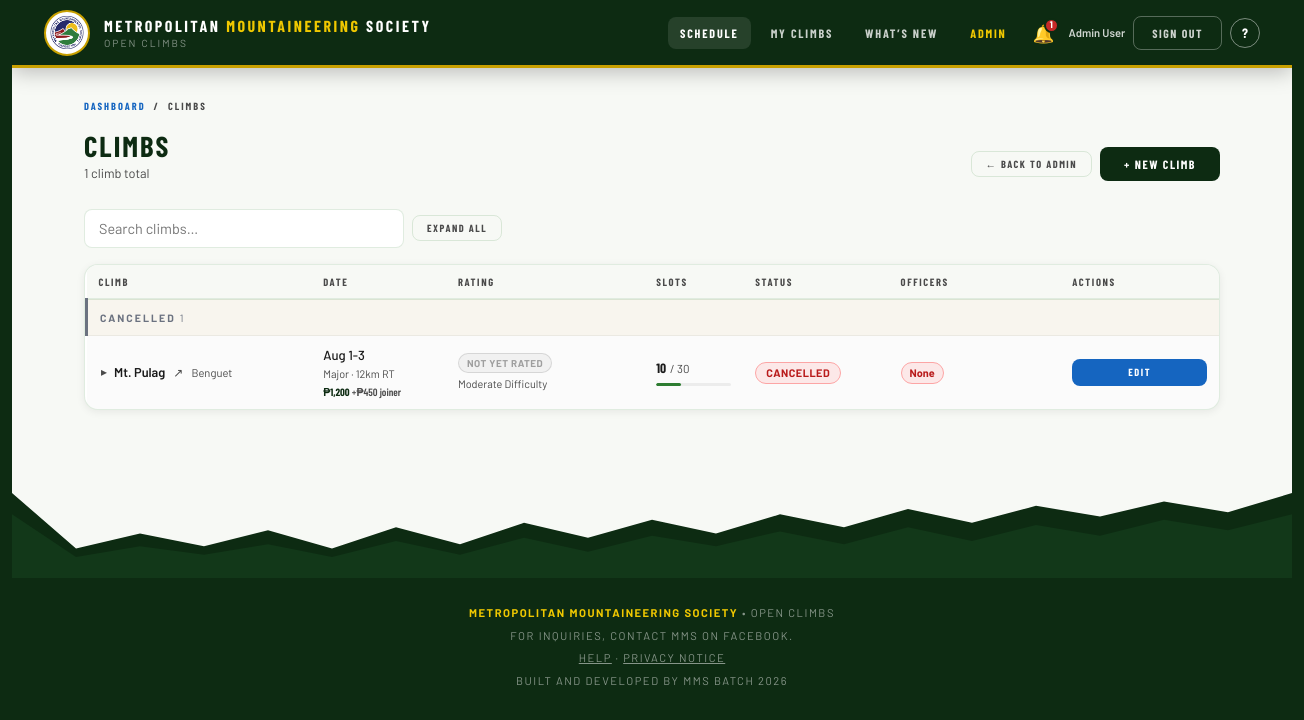
Test case: Admin ClimbsManage › remaining balances per climb › leaves balances off a cancelled climb
Expected: the link "Mt. Pulag" is shown, [114, 363, 165, 382]
What coordinates should you click on to do the following:
click the button named "Expand details"
I would click on:
 (104, 371)
Its box is [100, 364, 108, 378].
(page scrolled)
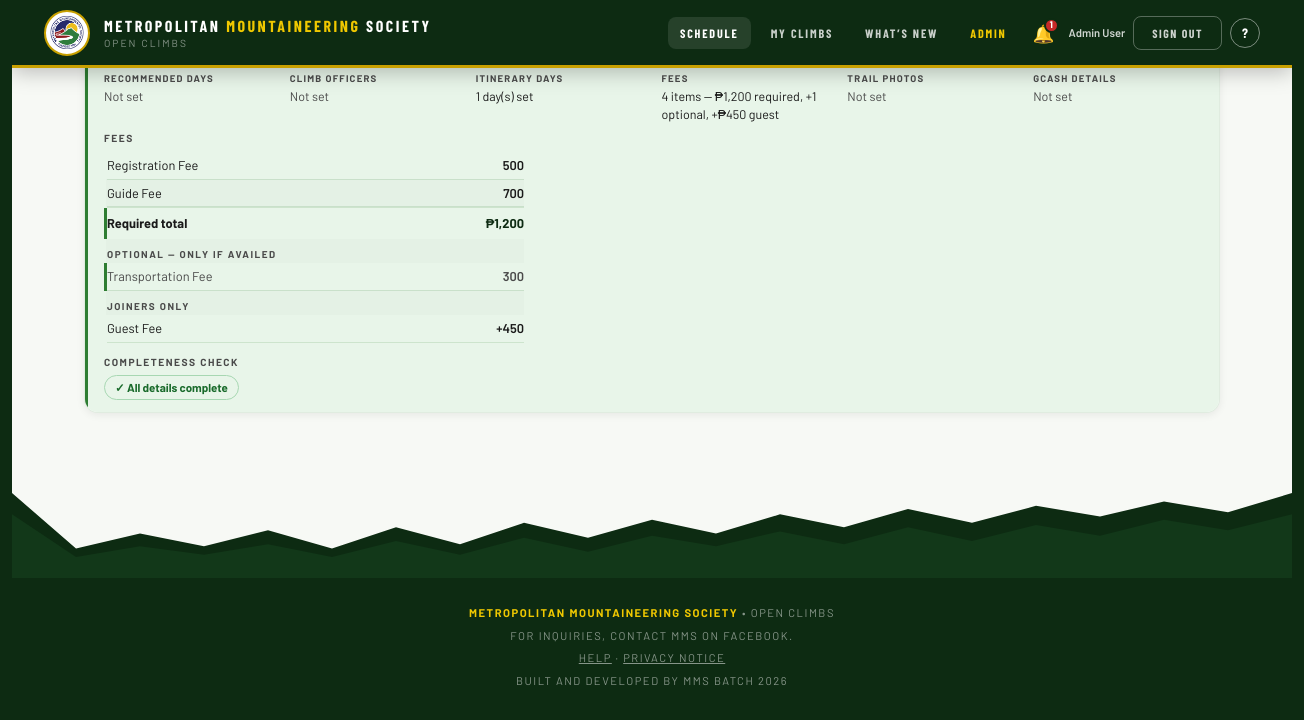
Now the text "Completeness Check" is shown, box [104, 356, 239, 368]
